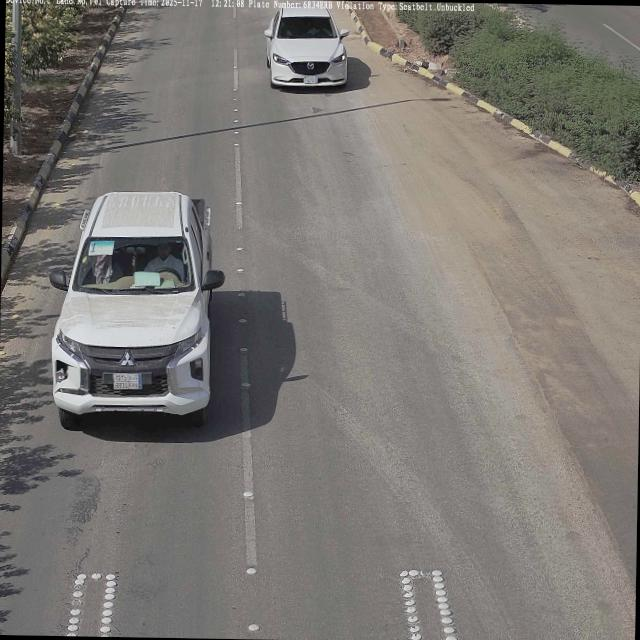person_without_seatbelt: (144, 238, 183, 276)
